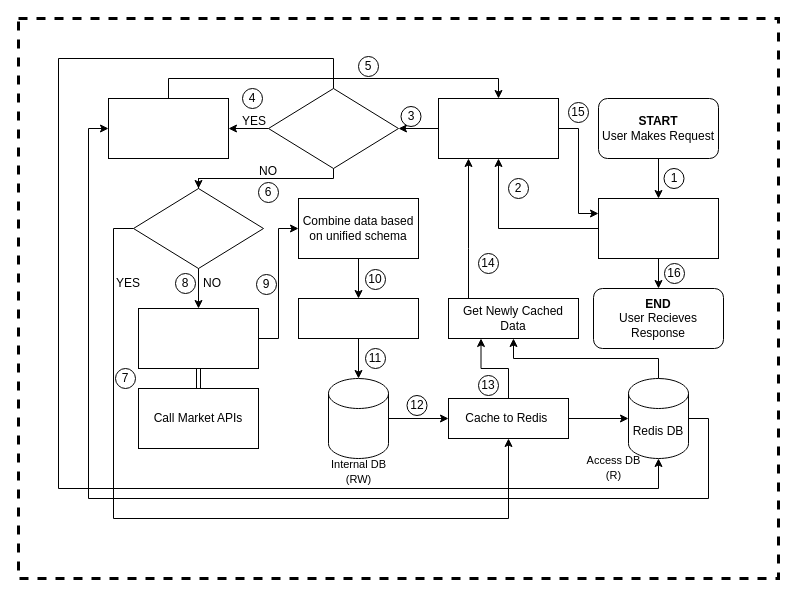
The diagram is 797 pixels wide and 597 high, and some of its shapes have lost their labels. The box of each missing label's shape, as (x1, y1, x2, y2) in pixels:
API Gateway: (598, 198, 718, 258)
Check Cached Data: (268, 88, 398, 168)
Check Internal DB: (132, 188, 264, 268)
Get Cached Data: (108, 98, 228, 158)
Ingest Data: (138, 308, 258, 368)
MongoDB: (328, 378, 388, 458)
Retreive data: (438, 98, 558, 158)
Write to Database: (298, 298, 418, 338)
